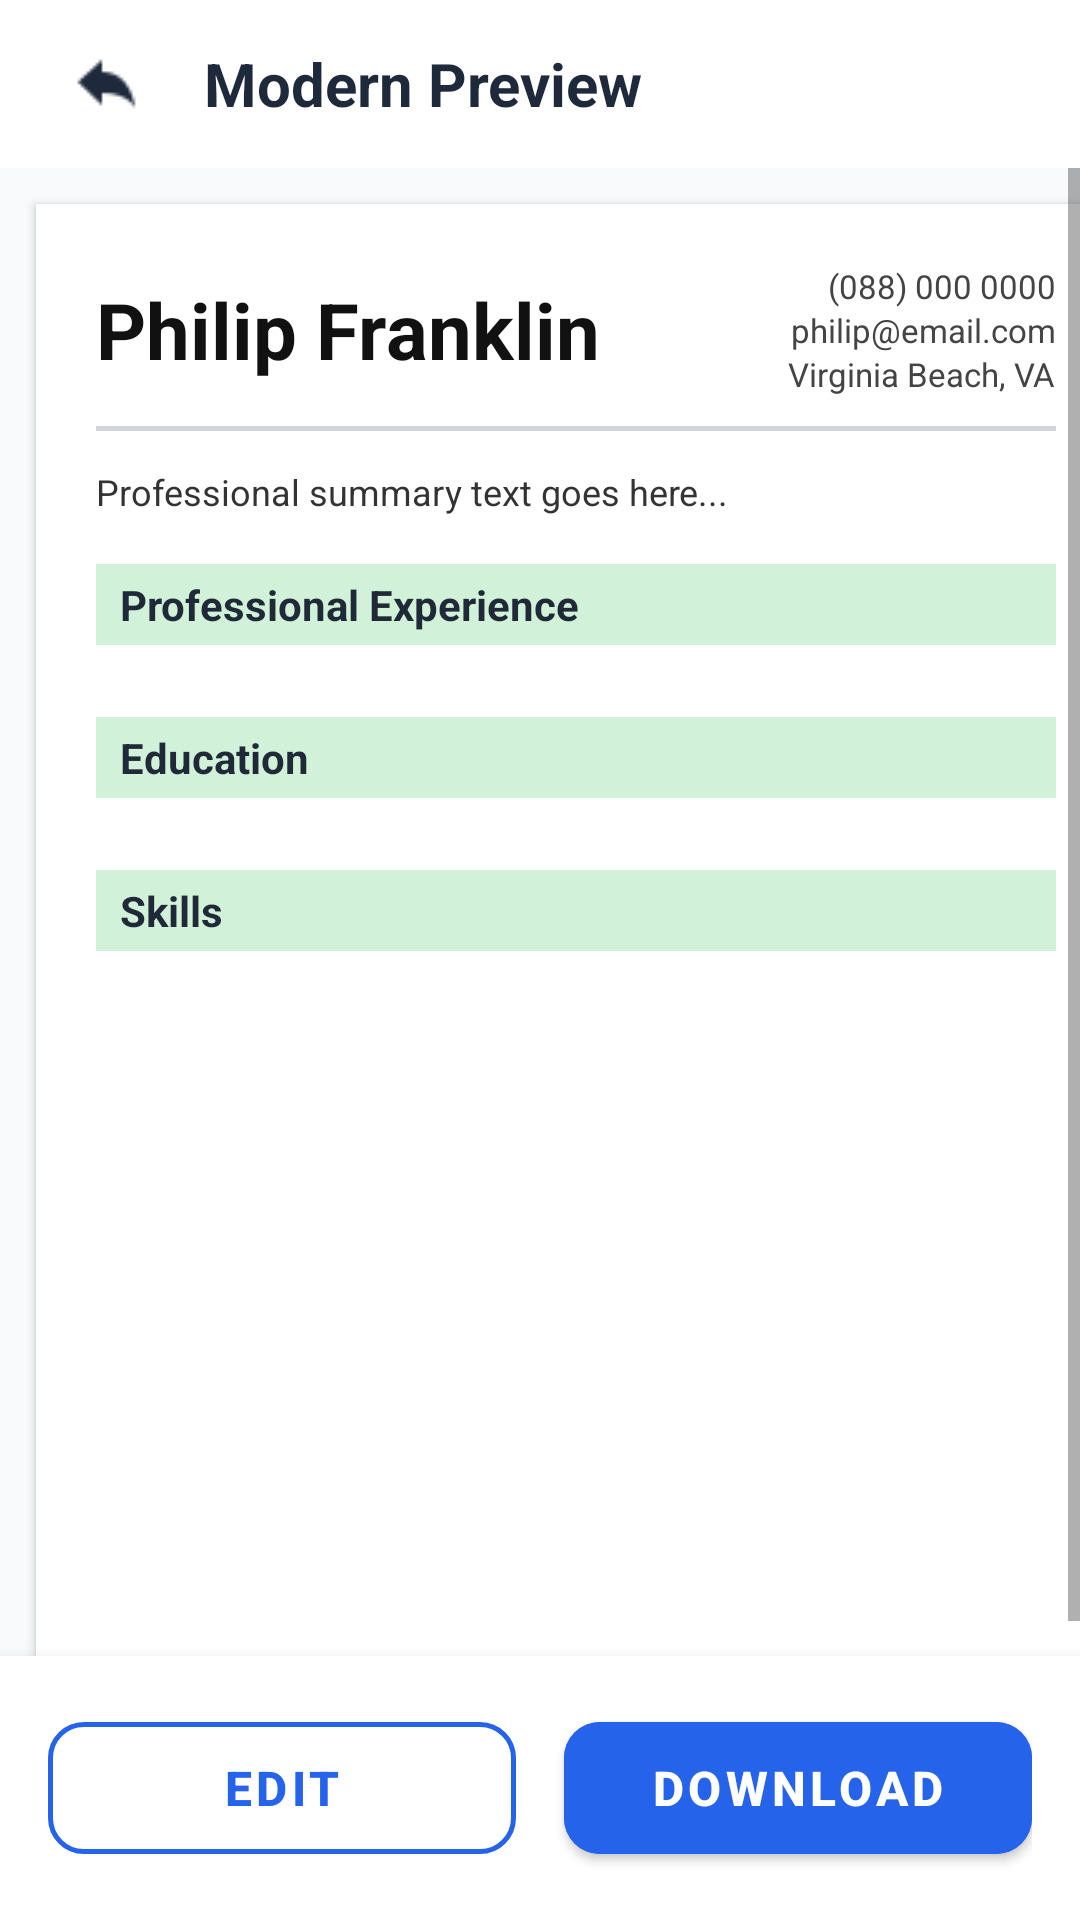

Where icons sit on this 1080px x 1920px app screen, as box(x1, y1, x2, y2):
Back: box(77, 59, 136, 108)
